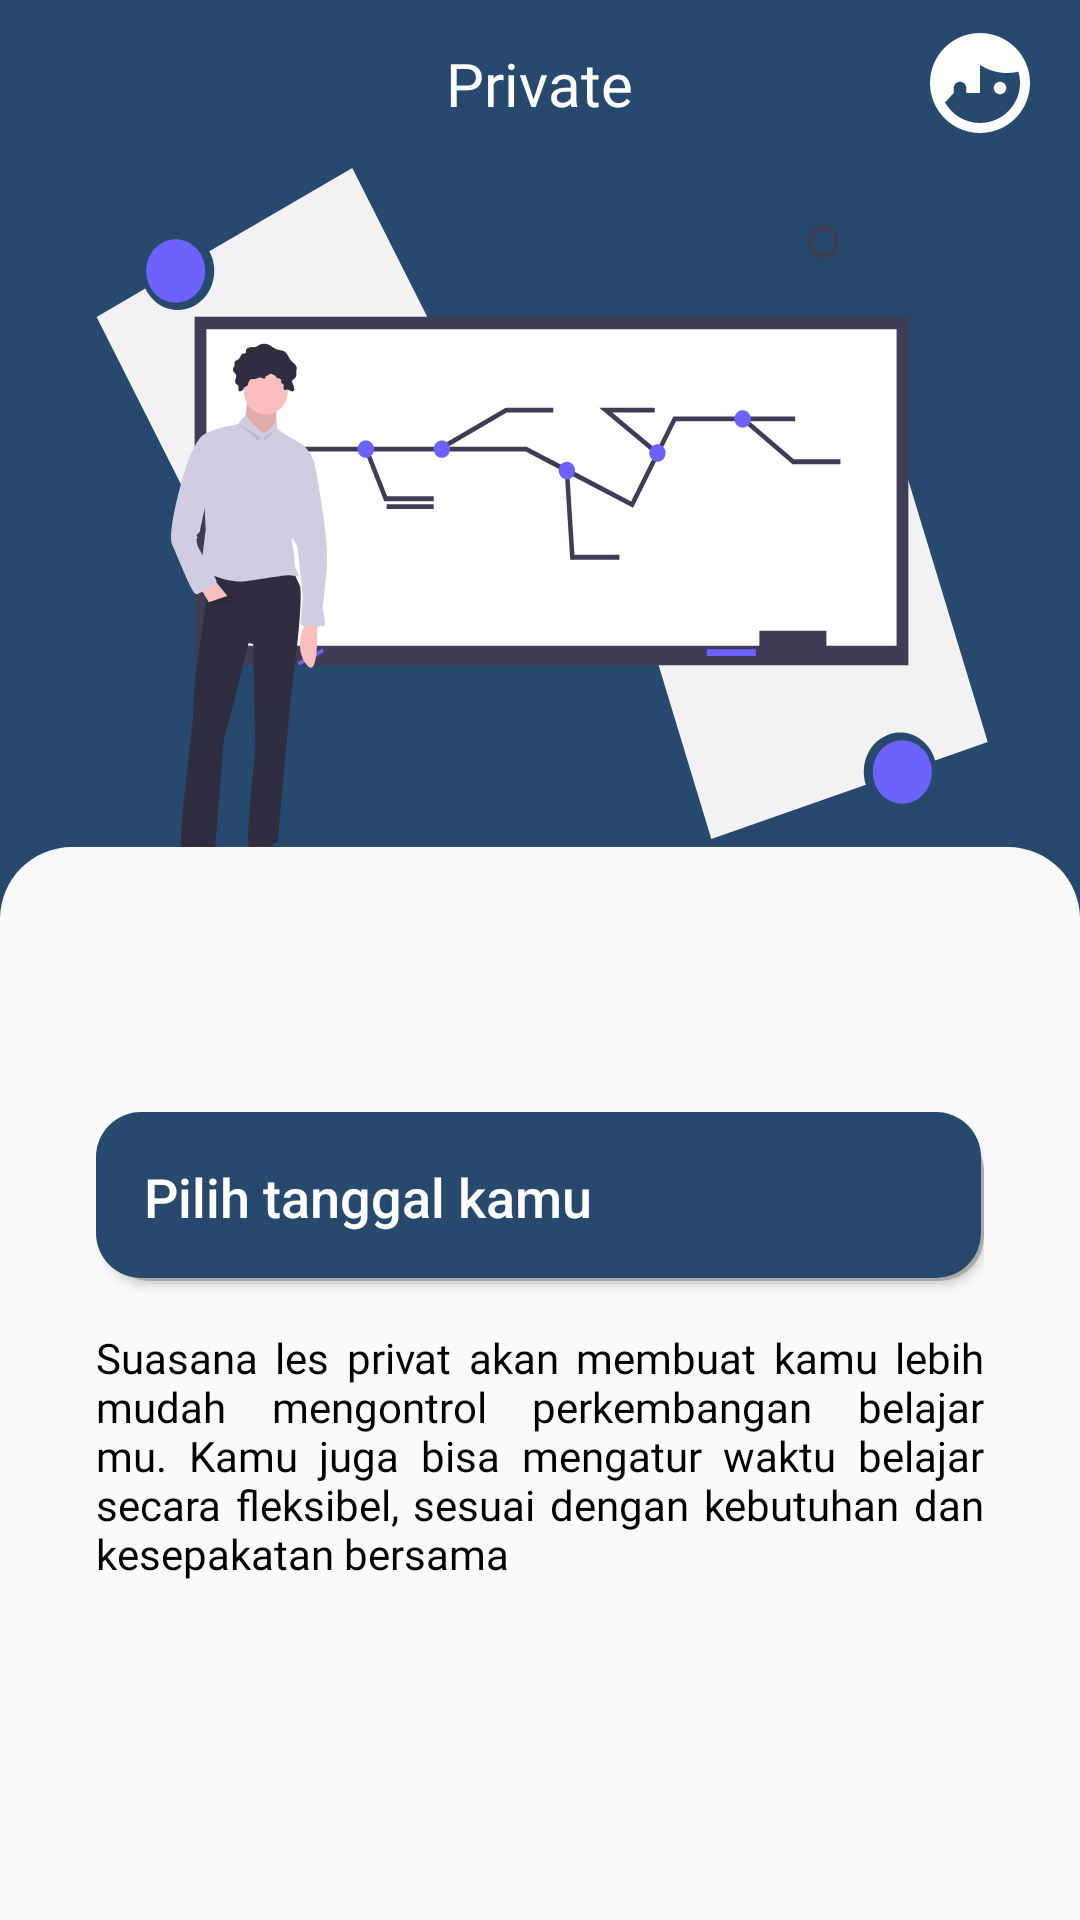

Icon bounding boxes for this 1080px×1920px phone screenshot, format bbox=[x1, y1, x2, y2]:
profile: bbox=[930, 33, 1030, 133]
